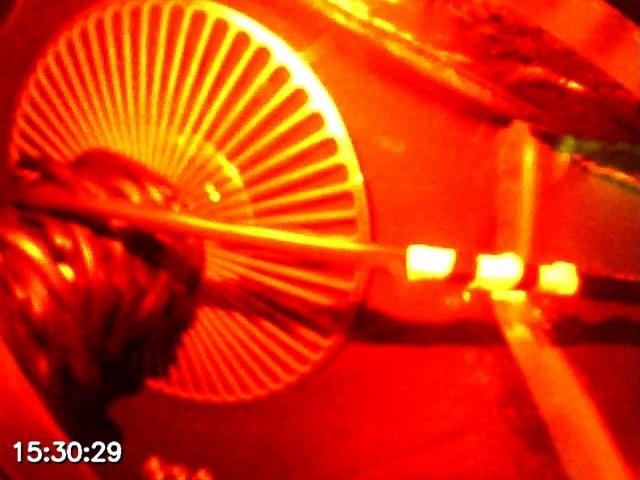white-dots: (404, 243, 579, 295)
